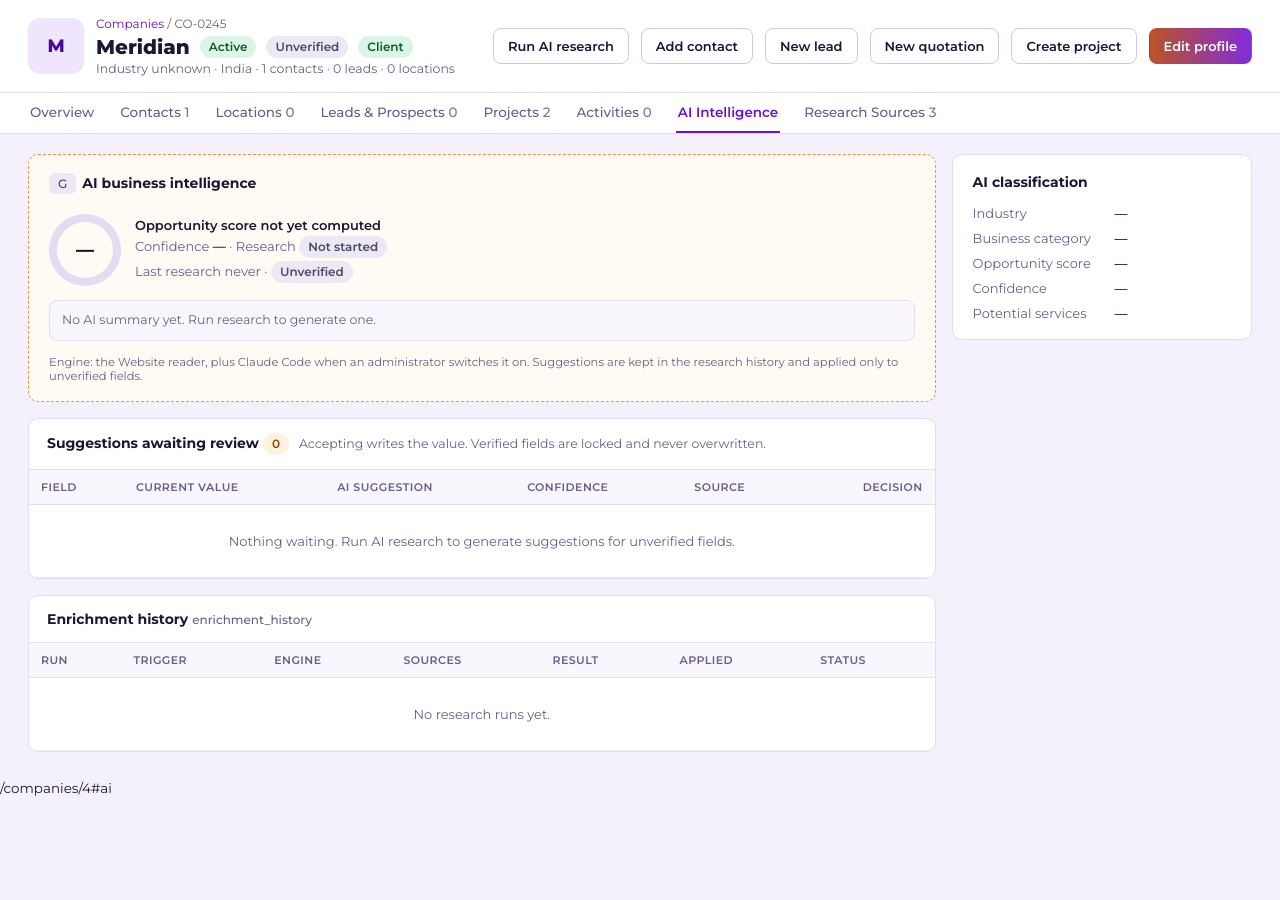
Test: Company profile: Projects › header Create project (client) opens the dialog for this client
The width and height of the screenshot is (1280, 900).
Click the button "Create project": (1074, 46) [1012,28,1136,64]
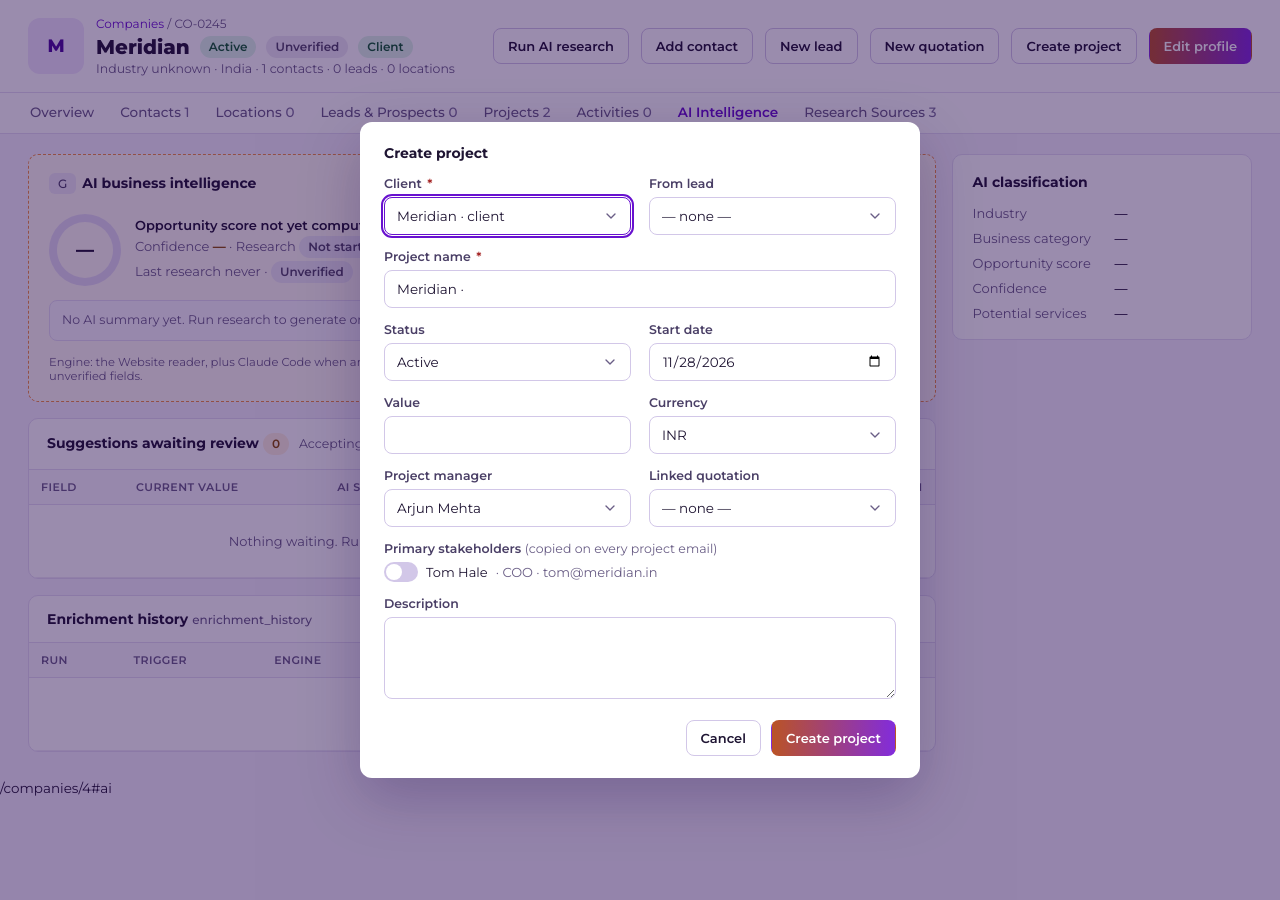
Now the dialog "Create project" is shown, box [360,122,920,778]
